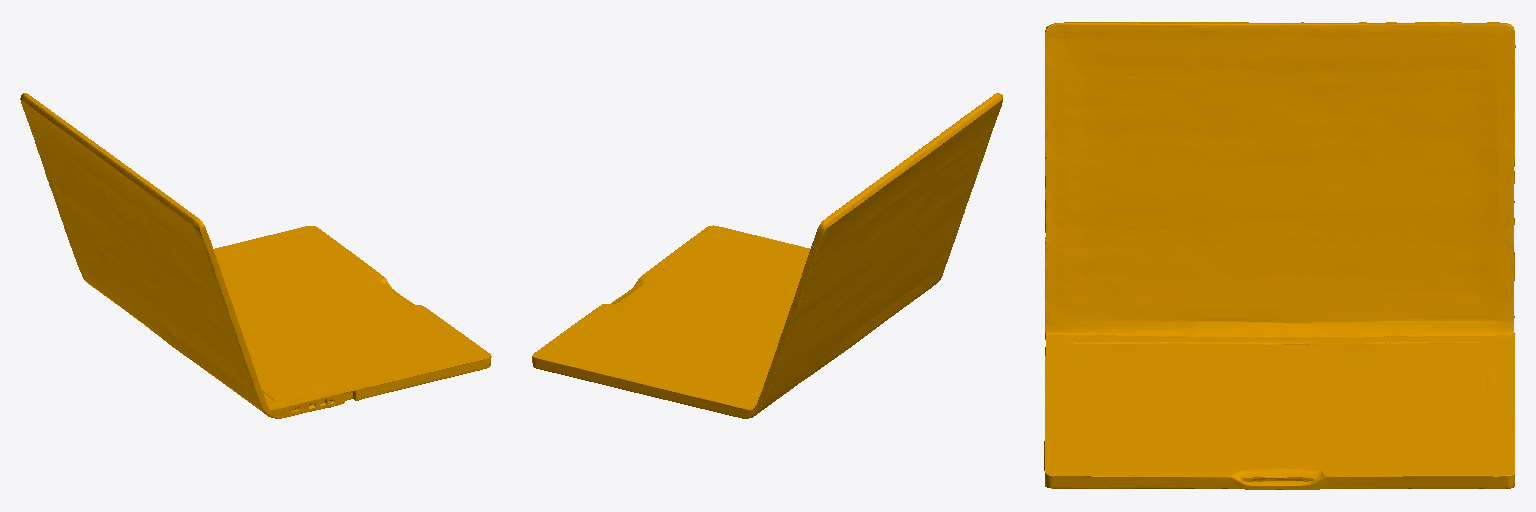
The robot description file, URDF, robot "sample":
<?xml version="1.0" ?>
<robot name="sample">
   <link name="sample">
      <visual>
         <origin xyz="0 0 0" rpy="1.5708 0.0 0.0"/>
         <geometry>
            <mesh filename="mesh/sample.obj" scale="1.0 1.0 1.0"/>
         </geometry>
      </visual>
      <collision>
         <origin xyz="0 0 0" rpy="1.5708 0.0 0.0"/>
         <geometry>
            <mesh filename="mesh/sample_collision.obj" scale="1.0 1.0 1.0"/>
         </geometry>
         <gazebo>
            <mu1>0.70</mu1>
            <mu2>0.55</mu2>
         </gazebo>
      </collision>
      <inertial>
         <mass value="1.7500"/>
         <origin xyz="0 0 0"/>
         <inertia ixx="1.0" ixy="0.0" ixz="0.0" iyy="1.0" iyz="0.0" izz="1.0"/>
      </inertial>
      <extra_info>
         <scale>0.489004</scale>
         <version>v0.1.7</version>
         <category>laptop</category>
         <description>sleek silver laptop with blue screen display</description>
         <min_height>0.3</min_height>
         <max_height>0.35</max_height>
         <real_height>0.325</real_height>
         <min_mass>1.5</min_mass>
         <max_mass>2.0</max_mass>
         <generate_time>20260401100352</generate_time>
         <gs_model>mesh/sample_gs.ply</gs_model>
      </extra_info>
   </link>
   <custom_data>
      <quality>
         <MeshGeoChecker>YES</MeshGeoChecker>
         <ImageSegChecker>NO, object is not fully extracted; bottom edge is truncated and missing.</ImageSegChecker>
         <ImageAestheticChecker>5.358829140663147</ImageAestheticChecker>
         <overall>NO</overall>
      </quality>
   </custom_data>
</robot>

--- Facts derived from the render (not from the file) ---
The picture shows the robot from 3 angles, left to right: view 1: azimuth 30°, elevation 25°; view 2: azimuth 150°, elevation 25°; view 3: azimuth 270°, elevation 25°; orthographic projection.
Model sample with 1 links and 0 joints (none), rooted at sample, posed every joint at zero.
Visible links, largest first — view 1: sample; view 2: sample; view 3: sample.
Link boxes in pixels (box(x1,y1,x2,y2)): sample: box(20, 93, 491, 418); sample: box(532, 93, 1002, 418); sample: box(1044, 22, 1515, 489).
Bounding box of the posed robot: 0.4631 × 0.489 × 0.325 m (x, y, z).
Meshes: 1 distinct files referenced, 1 mesh visuals loaded (1 OBJ).
